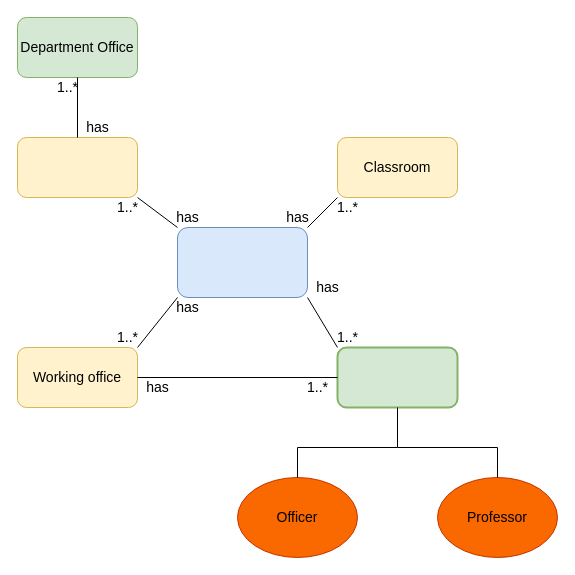
This 575x575 diagram has some shape labels left out. Each missing label, with the centre of its shape:
Department: point (77, 167)
Employee: point (397, 377)
University: point (242, 262)
